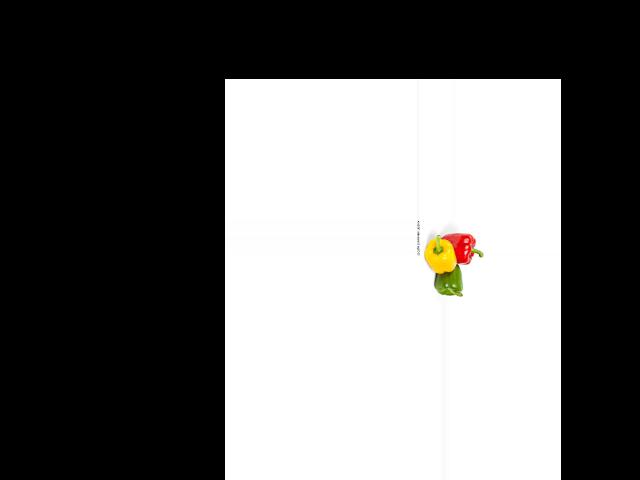bell_pepper: (443, 230, 483, 265)
